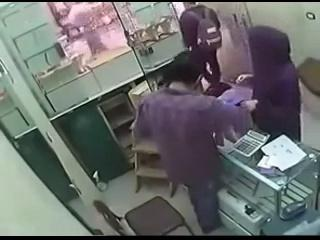Normal: (132, 63, 258, 234), (246, 25, 302, 142), (92, 196, 194, 236), (180, 5, 223, 87), (233, 129, 271, 158)
